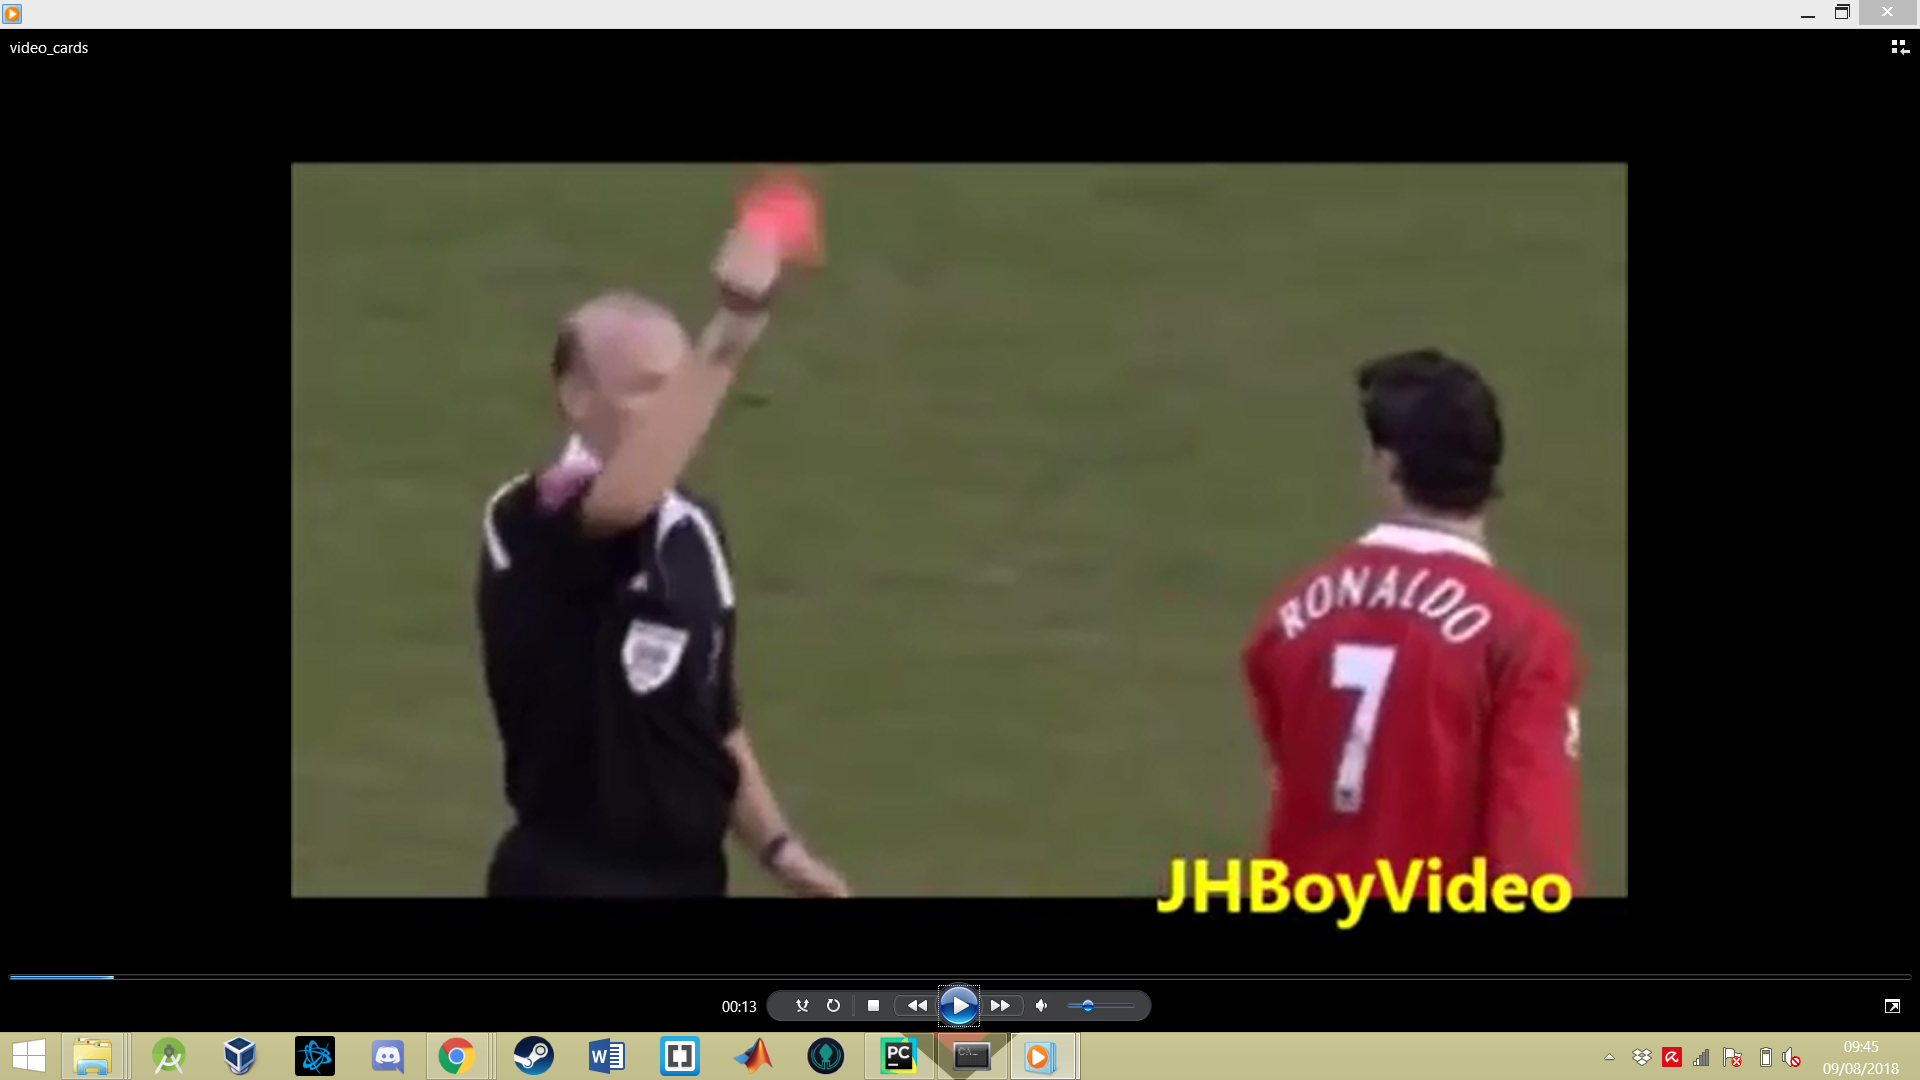red_card: (703, 171, 832, 301)
